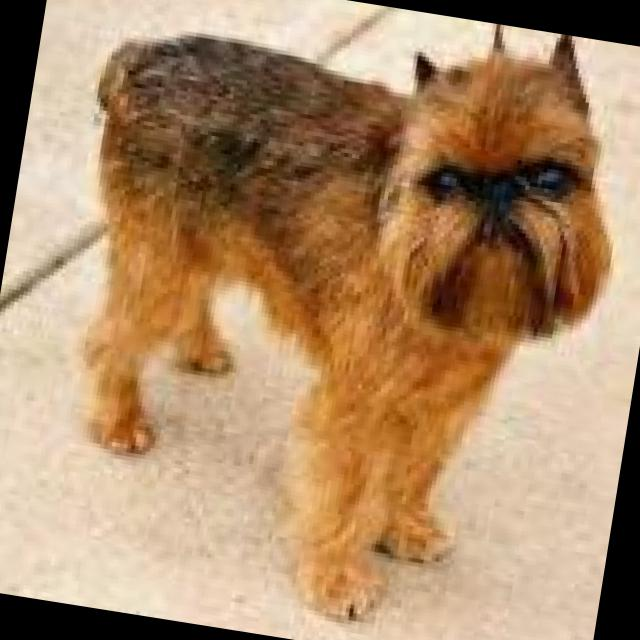Perro: (19, 0, 640, 640)
